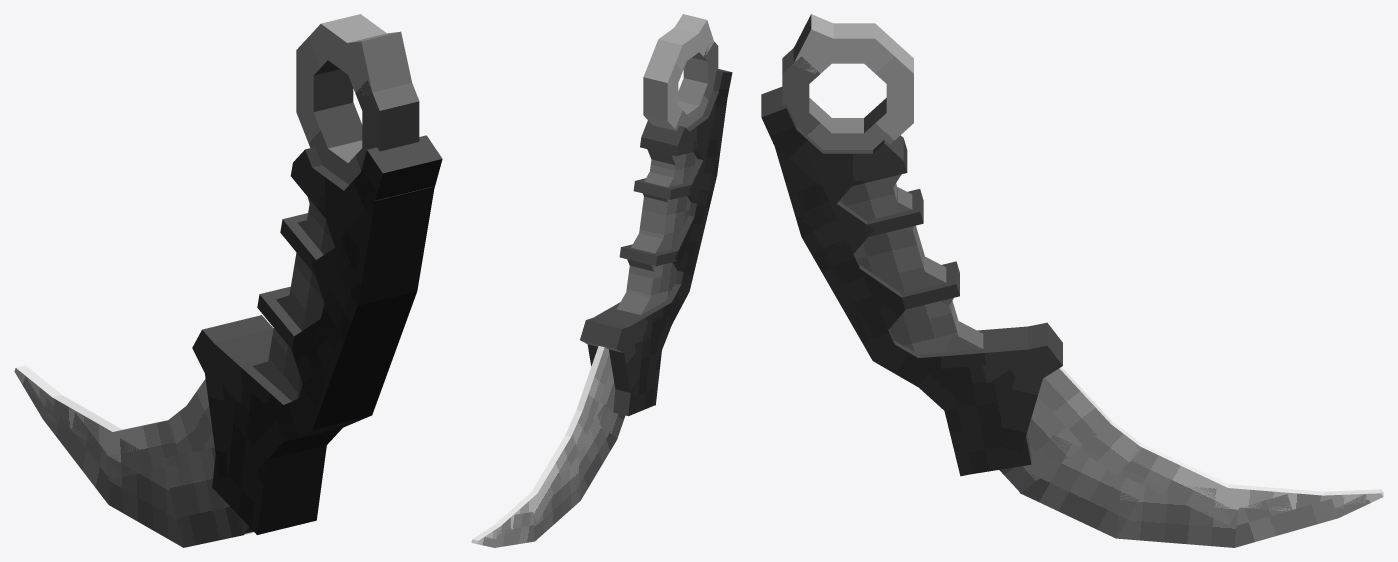
Rendered from karambit.glb.
3 views of the same model, side by side, from view 1: azimuth 30°, elevation 25°; view 2: azimuth 150°, elevation 25°; view 3: azimuth 270°, elevation 25° (orthographic). The views are drawn at different scales.
Parts seen in each view (by area): view 1: cube_13, cube_9, cube_19, cube_36, cube_14, cube_37, cube_18, cube_22, cube_33, cube_49, cube_1, cube_0 (+26 smaller); view 2: cube_9, cube_18, cube_29, cube_36, cube_49, cube_37, cube_30, cube_31, cube_0, cube_17, cube_47, cube_16 (+27 smaller); view 3: cube_9, cube_36, cube_37, cube_18, cube_49, cube_29, cube_38, cube_47, cube_22, cube_30, cube_39, cube_17 (+29 smaller).
Part boxes in pixels (bbox=[...]): cube_13: bbox=[309, 291, 416, 429]; cube_9: bbox=[298, 135, 442, 428]; cube_19: bbox=[349, 189, 433, 305]; cube_36: bbox=[162, 447, 254, 547]; cube_14: bbox=[252, 445, 326, 534]; cube_37: bbox=[105, 430, 183, 547]; cube_18: bbox=[212, 385, 263, 528]; cube_22: bbox=[213, 329, 291, 408]; cube_33: bbox=[347, 31, 411, 95]; cube_49: bbox=[102, 420, 180, 478]; cube_1: bbox=[296, 100, 362, 167]; cube_0: bbox=[296, 50, 353, 124]; cube_9: bbox=[675, 69, 732, 291]; cube_18: bbox=[613, 316, 660, 416]; cube_29: bbox=[639, 196, 690, 251]; cube_36: bbox=[571, 403, 617, 500]; cube_49: bbox=[530, 435, 578, 522]; cube_37: bbox=[533, 458, 580, 540]; cube_30: bbox=[626, 262, 677, 309]; cube_31: bbox=[643, 39, 689, 90]; cube_0: bbox=[643, 75, 678, 120]; cube_17: bbox=[587, 340, 641, 403]; cube_47: bbox=[576, 346, 611, 419]; cube_16: bbox=[580, 320, 634, 352]; cube_9: bbox=[761, 87, 897, 360]; cube_36: bbox=[1019, 435, 1147, 538]; cube_37: bbox=[1116, 481, 1239, 547]; cube_18: bbox=[948, 365, 1031, 474]; cube_49: bbox=[1120, 443, 1240, 525]; cube_29: bbox=[855, 225, 929, 293]; cube_38: bbox=[999, 396, 1082, 492]; cube_47: bbox=[1038, 367, 1111, 445]; cube_22: bbox=[918, 326, 1029, 370]; cube_30: bbox=[889, 300, 958, 354]; cube_39: bbox=[1234, 499, 1338, 547]; cube_17: bbox=[995, 370, 1043, 451].
Size of the model in its own units: 0.0375 by 0.3978 by 0.4278.
1 material, 1 textured.
